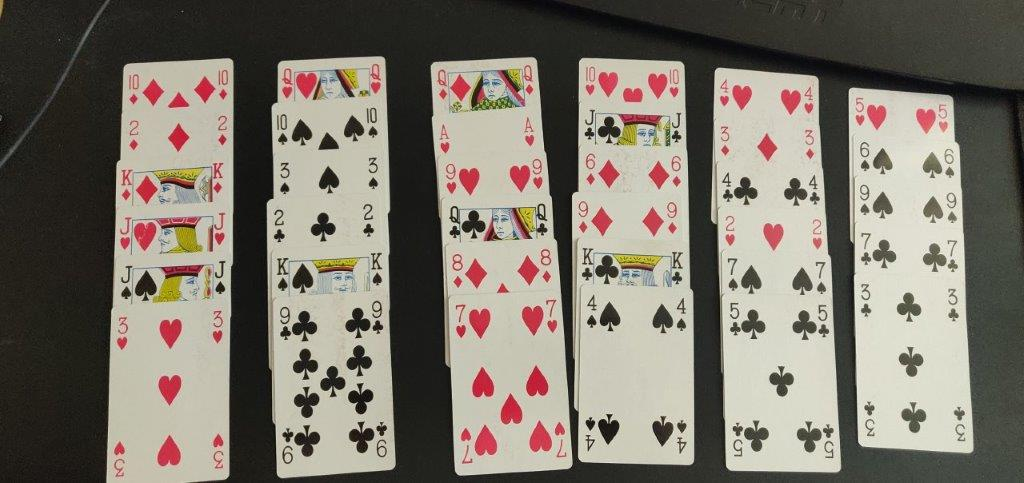10D: (123, 72, 142, 106), (214, 66, 231, 101)
10H: (666, 63, 682, 98), (581, 63, 597, 96)
10S: (273, 108, 292, 146), (364, 103, 382, 143)
2C: (361, 201, 377, 239), (271, 206, 286, 242)
2D: (124, 115, 145, 153), (214, 107, 231, 151)
2H: (809, 215, 826, 255), (722, 214, 738, 250)
3C: (856, 277, 875, 320), (945, 283, 962, 326)
3D: (802, 126, 817, 165), (718, 122, 732, 159)
3H: (208, 306, 226, 349), (112, 313, 131, 352)
3S: (277, 158, 293, 200), (365, 152, 380, 193)
4C: (806, 171, 822, 210), (720, 169, 736, 205)
4H: (717, 74, 732, 110), (803, 83, 816, 117)
4S: (673, 295, 689, 336), (585, 293, 600, 330)
5C: (815, 301, 830, 340), (728, 301, 742, 340)
5H: (934, 101, 951, 134), (852, 94, 868, 128)
6D: (583, 148, 599, 187), (668, 151, 683, 188)
6S: (856, 138, 874, 173), (941, 144, 958, 180)
7C: (857, 229, 874, 268), (944, 236, 960, 276)
7H: (453, 302, 469, 341), (544, 297, 560, 333)
7S: (725, 253, 742, 295), (812, 257, 828, 297)
8D: (538, 247, 554, 287), (450, 250, 466, 289)
9C: (276, 304, 294, 346), (369, 298, 386, 338)
9D: (664, 199, 679, 239), (577, 199, 591, 235)
9H: (442, 161, 460, 199), (530, 157, 545, 189)
9S: (944, 190, 960, 227), (858, 181, 872, 219)
AH: (436, 122, 454, 155), (522, 112, 536, 150)
JC: (581, 105, 597, 142), (669, 111, 685, 146)
JH: (211, 211, 229, 249), (117, 213, 135, 250)
JS: (210, 256, 229, 298), (117, 263, 135, 303)
KC: (579, 242, 596, 283), (670, 248, 685, 288)
KD: (208, 160, 227, 199), (118, 164, 135, 203)
KS: (273, 250, 292, 297), (369, 250, 387, 291)
QC: (534, 200, 550, 240), (447, 202, 462, 241)
QD: (435, 66, 452, 102), (521, 61, 536, 99)
QH: (279, 66, 296, 100), (368, 61, 383, 99)
